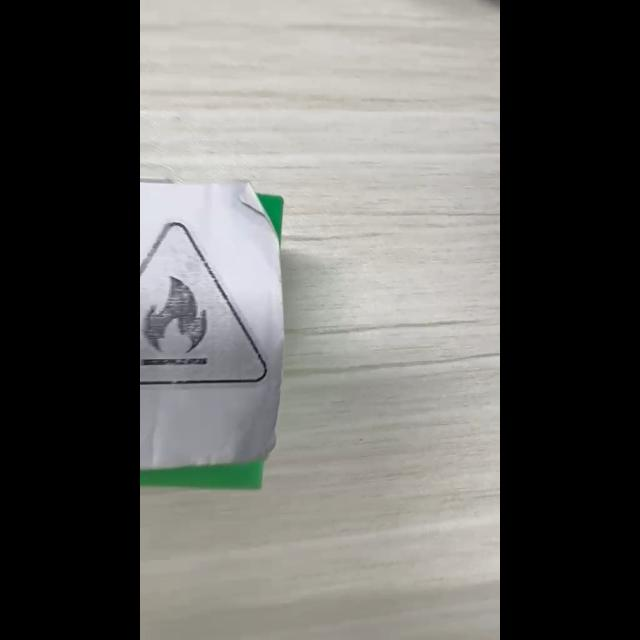Fire: (140, 221, 266, 385)
